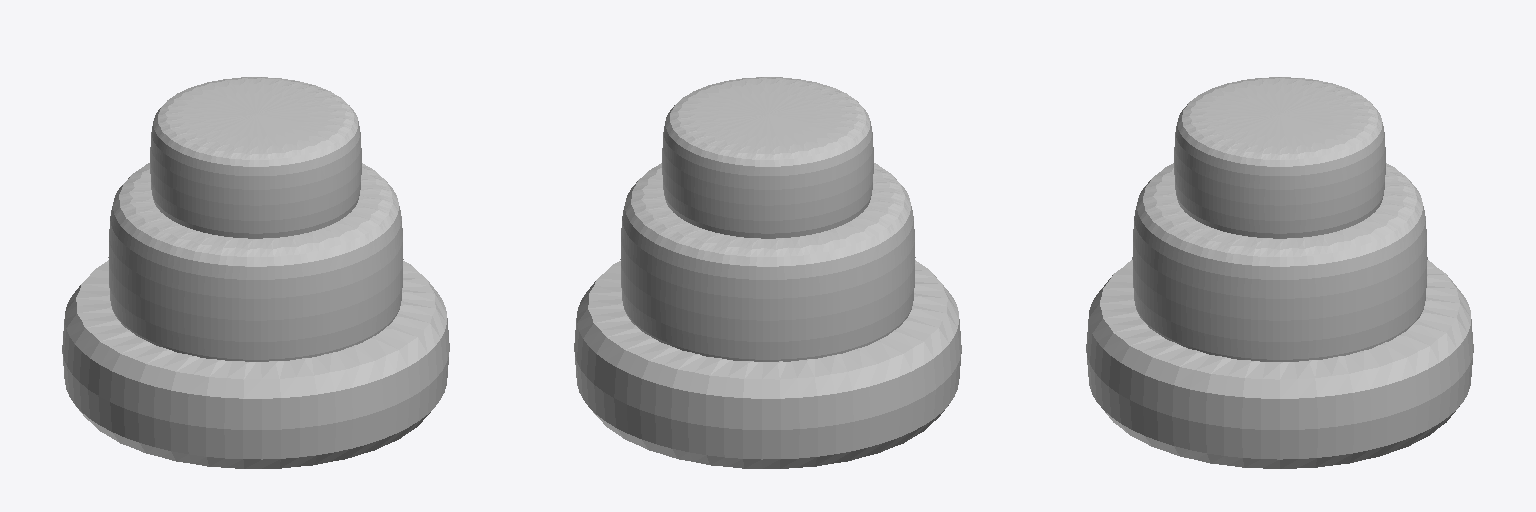
File: level3A.obj
The picture shows the model from 3 angles: view 1: azimuth 30°, elevation 25°; view 2: azimuth 150°, elevation 25°; view 3: azimuth 270°, elevation 25°; orthographic projection.
Visible parts, largest first — view 1: Cylinder_Cylinder.005, Cylinder.001_Cylinder.004, Cylinder.002_Cylinder.003; view 2: Cylinder_Cylinder.005, Cylinder.001_Cylinder.004, Cylinder.002_Cylinder.003; view 3: Cylinder_Cylinder.005, Cylinder.001_Cylinder.004, Cylinder.002_Cylinder.003.
Boxes of the visible parts, <box> form: Cylinder_Cylinder.005: <box>62,260,449,468</box>; Cylinder.001_Cylinder.004: <box>108,163,403,361</box>; Cylinder.002_Cylinder.003: <box>150,77,361,238</box>; Cylinder_Cylinder.005: <box>574,260,961,468</box>; Cylinder.001_Cylinder.004: <box>620,163,915,361</box>; Cylinder.002_Cylinder.003: <box>662,77,873,238</box>; Cylinder_Cylinder.005: <box>1086,260,1473,468</box>; Cylinder.001_Cylinder.004: <box>1132,163,1427,361</box>; Cylinder.002_Cylinder.003: <box>1174,77,1385,238</box>.
Size of the model in its own units: 1.49 by 1.2 by 1.49.